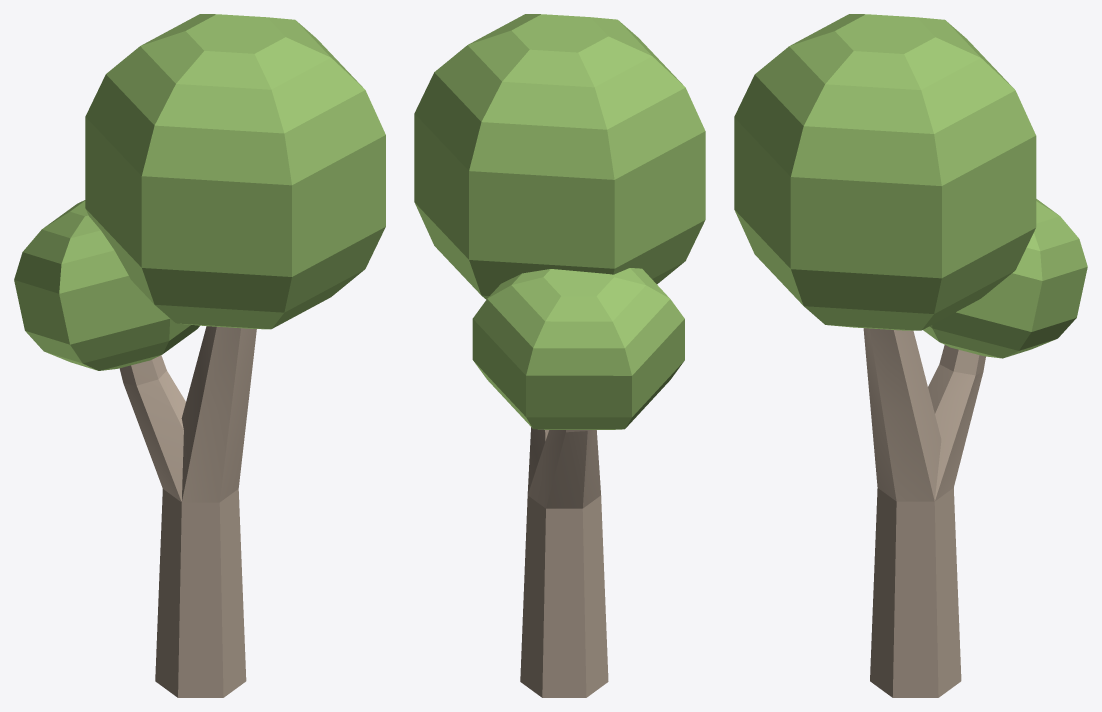
File: Prop_Tree_Oak_1.glb
3 views of the same model, side by side, from view 1: azimuth 30°, elevation 25°; view 2: azimuth 150°, elevation 25°; view 3: azimuth 270°, elevation 25° (orthographic). The views are drawn at different scales.
Visible parts, largest first — view 1: object3, object1, object2; view 2: object3, object2, object1; view 3: object3, object1, object2.
Part boxes in pixels (x1,y1,x2,y2): object3: [85, 14, 385, 329]; object1: [119, 326, 256, 697]; object2: [14, 200, 199, 370]; object3: [414, 14, 705, 299]; object2: [472, 268, 684, 429]; object1: [520, 427, 608, 697]; object3: [734, 14, 1036, 330]; object1: [863, 328, 985, 697]; object2: [923, 199, 1087, 358].
Bounding box in the file's own units: 2.09 × 4.75 × 2.32.
